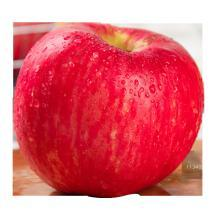apple: (13, 23, 203, 197)
